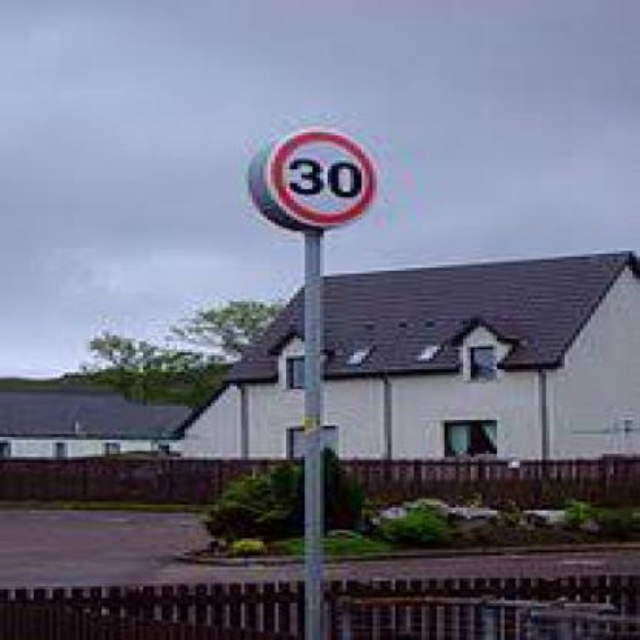Tốc độ tối đa cho phép 30km/h: (267, 122, 378, 230)
